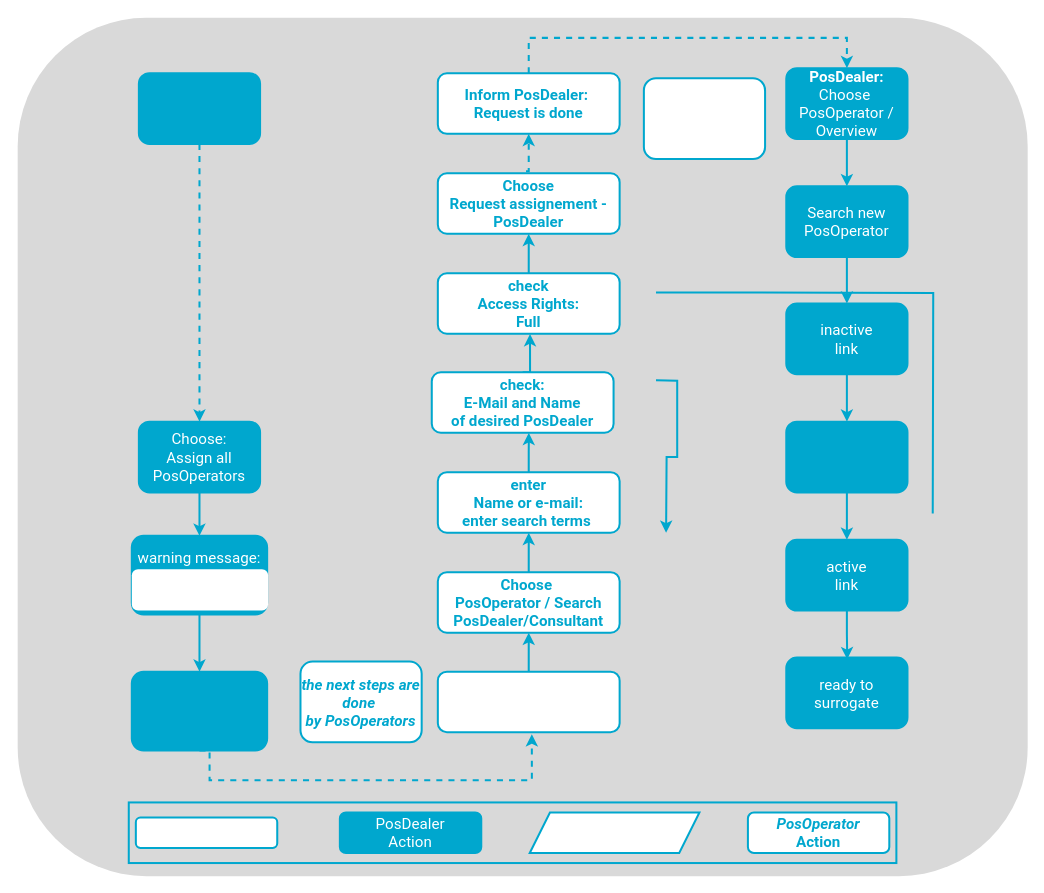
Some shapes in this 1044 by 893 pixel diagram are drawn without their labels. Each missing label, with the box of its shape:
Choose Accept: (785, 420, 908, 493)
Inform PosOperator to add new or further Posdealer: (130, 670, 268, 751)
legend:: (134, 816, 278, 848)
PosDealer: Open fiskaltrust.Portal: (137, 72, 261, 144)
PosOperator Mail: (528, 811, 700, 853)
PosOperator: Open fiskaltrust.Portal: (436, 670, 620, 733)
the next steps are done by PosDealers: (642, 77, 766, 160)
This e-mail address already exists.: (131, 569, 268, 610)
